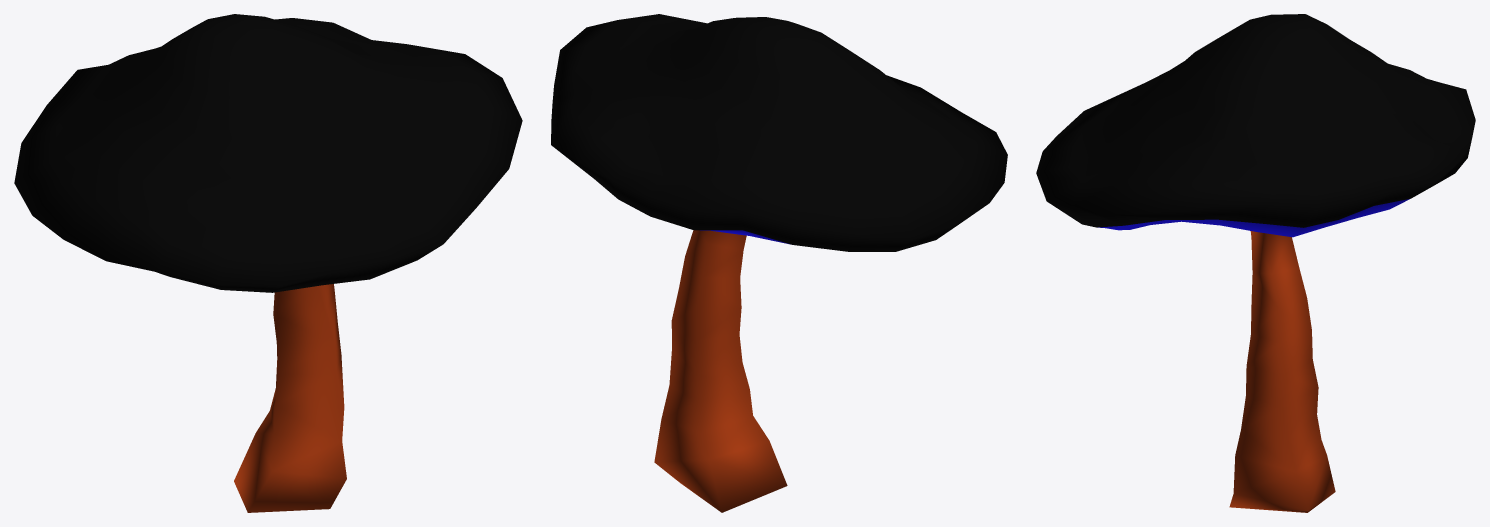
3 views of the same model, side by side, from view 1: azimuth 30°, elevation 25°; view 2: azimuth 150°, elevation 25°; view 3: azimuth 270°, elevation 25° (orthographic). The views are drawn at different scales.
Parts seen in each view (by area): view 1: C_M_3; view 2: C_M_3; view 3: C_M_3.
Boxes of the visible parts, x1,y1,x2,y2 form: C_M_3: (14,14,522,512); C_M_3: (551,14,1007,512); C_M_3: (1036,14,1475,512).
Bounding box in the file's own units: 33.35 × 31.45 × 36.22.
